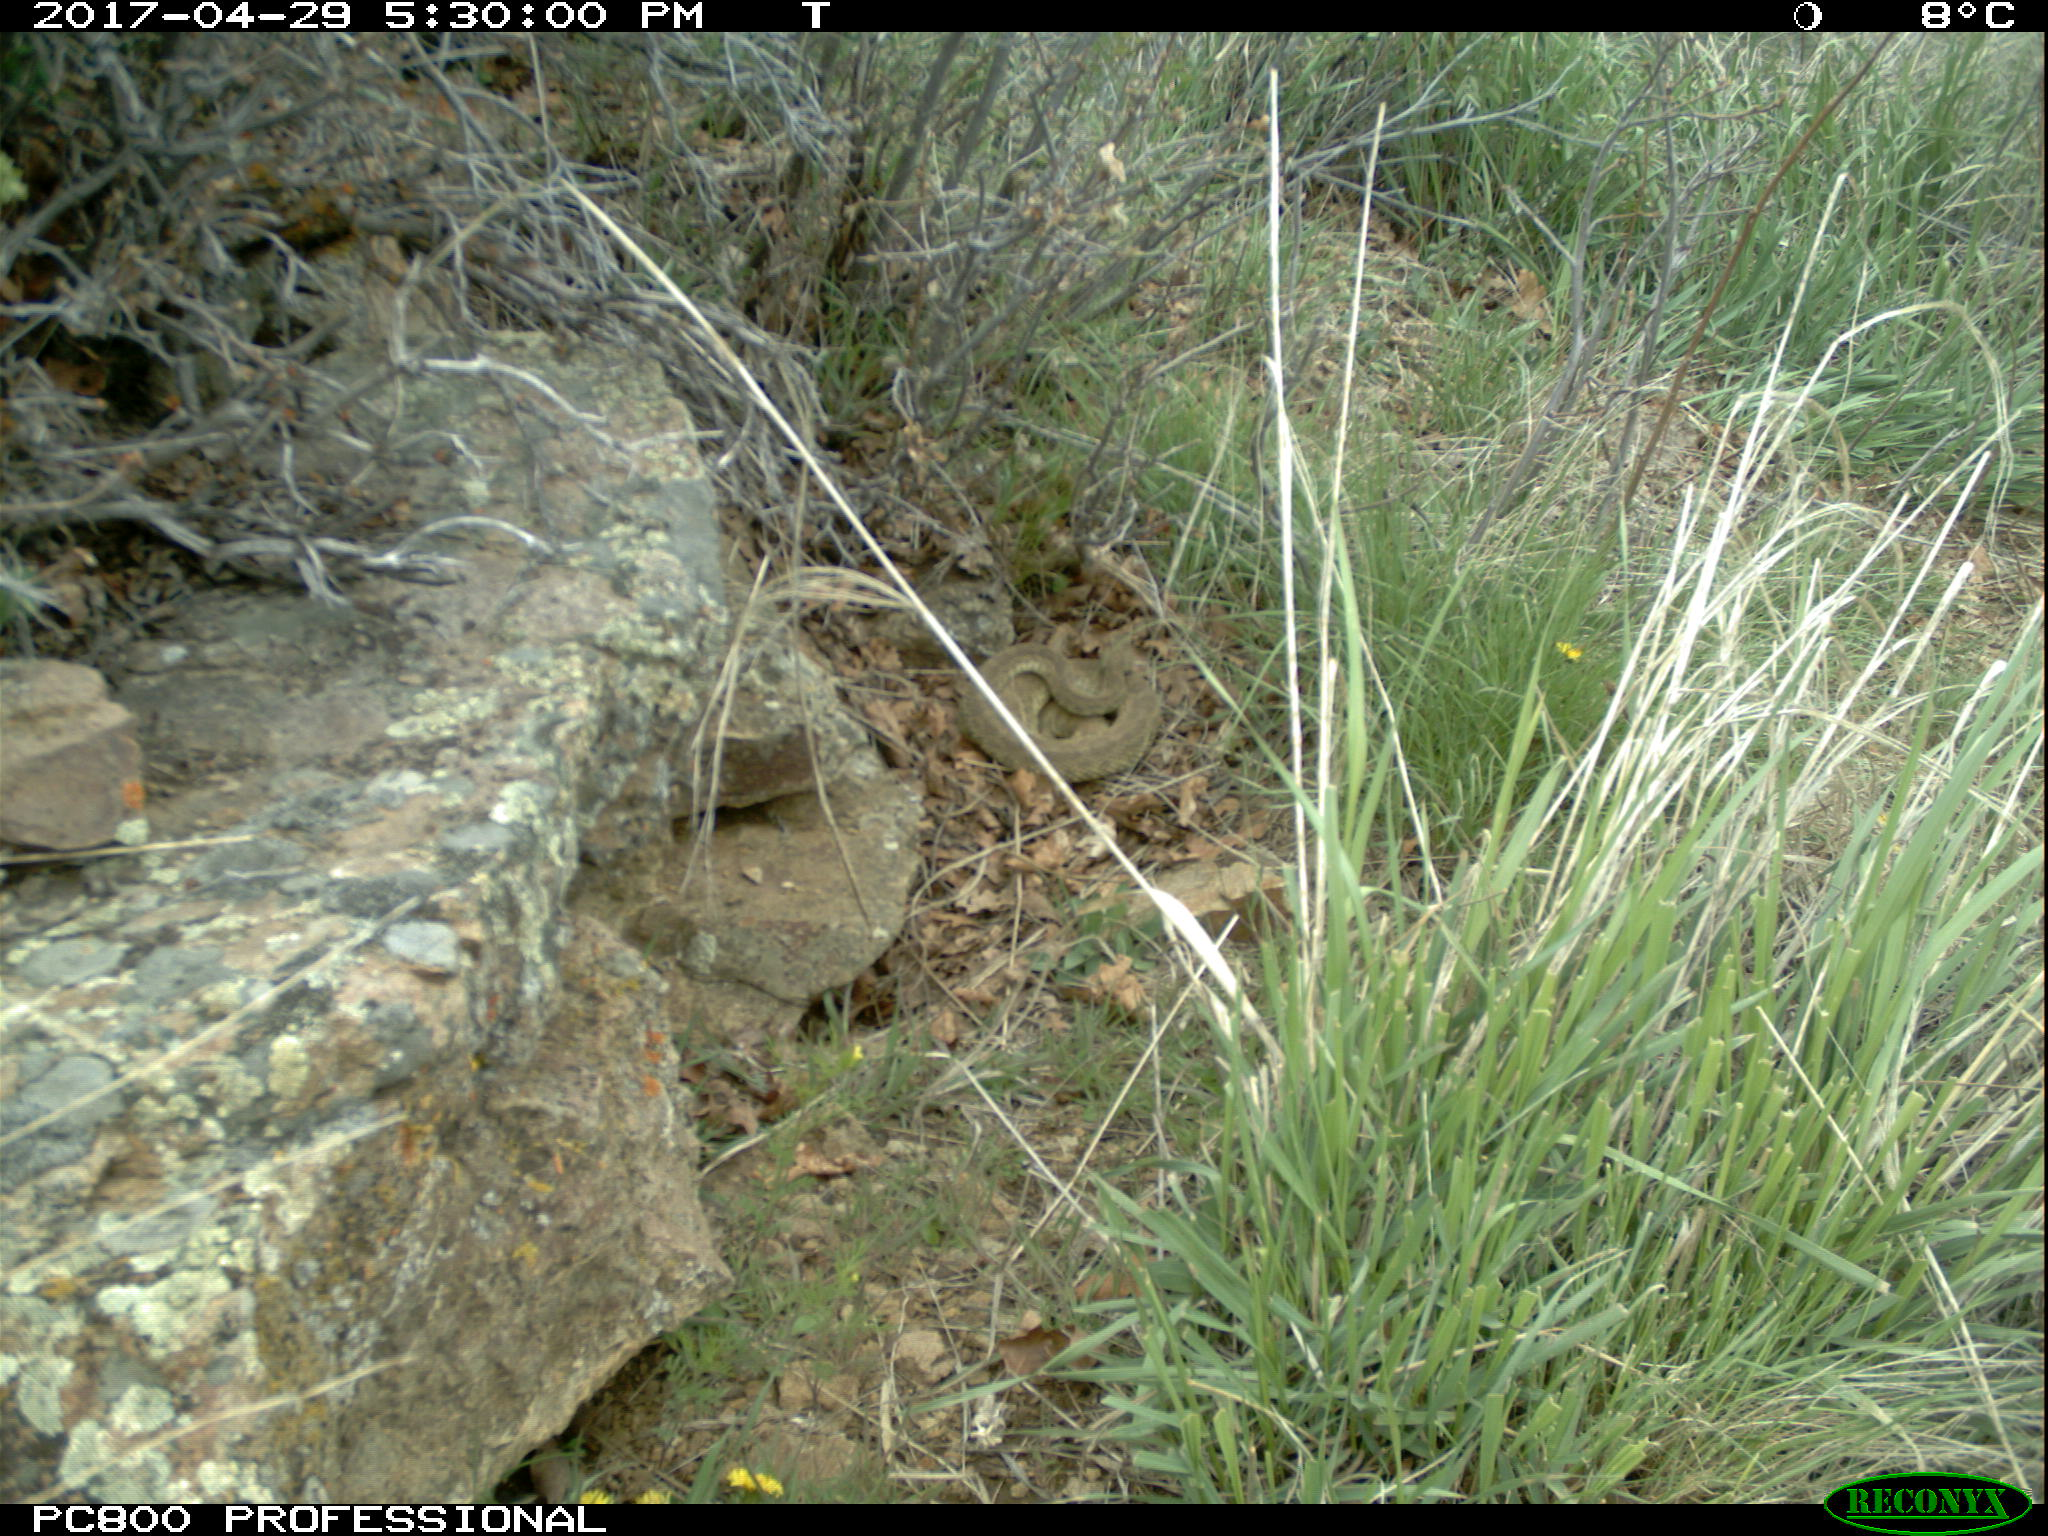snake: (953, 632, 1172, 783)
